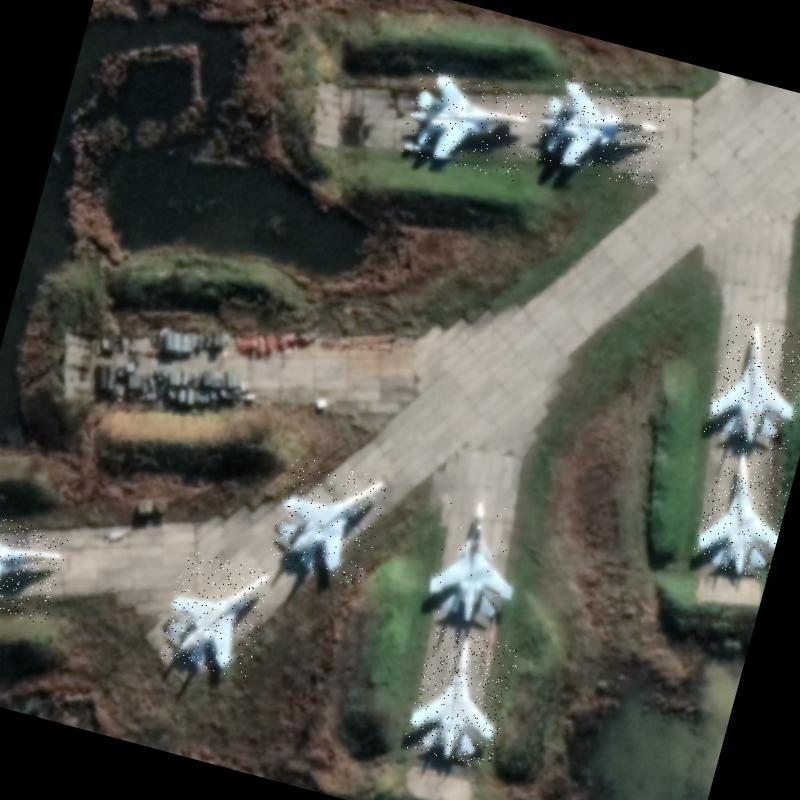A1: (401, 624, 521, 772), (264, 454, 390, 588), (398, 65, 538, 181), (156, 548, 274, 680), (690, 442, 798, 581), (701, 313, 800, 454), (0, 505, 69, 625)
A19: (420, 490, 538, 634), (529, 73, 673, 190)
